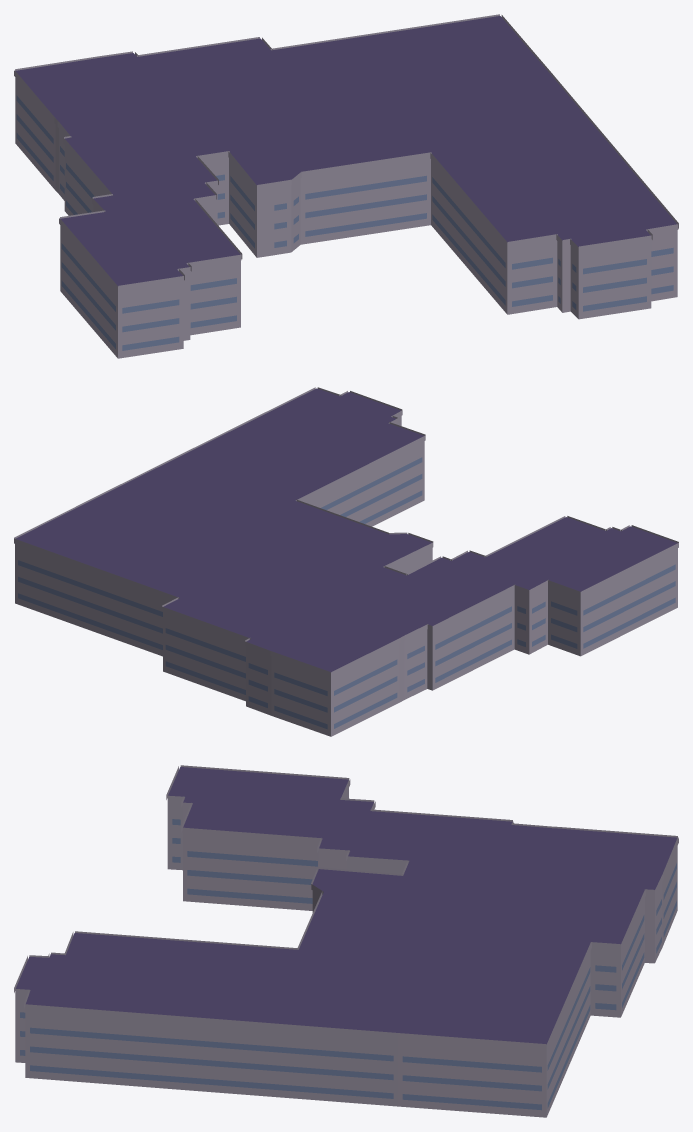
File: core-social-science-centre-day.glb
3 renders of one model, top to bottom at view 1: azimuth 30°, elevation 25°; view 2: azimuth 150°, elevation 25°; view 3: azimuth 270°, elevation 25°, orthographic. The views are drawn at different scales.
Parts seen in each view (by area): view 1: campus/core-social-science-centre-day-0; view 2: campus/core-social-science-centre-day-0; view 3: campus/core-social-science-centre-day-0.
Part boxes in pixels (box(x1,y1,x2,y2)): campus/core-social-science-centre-day-0: box(14, 14, 678, 358); campus/core-social-science-centre-day-0: box(14, 387, 678, 736); campus/core-social-science-centre-day-0: box(14, 765, 678, 1117).
Bounding box in the file's own units: 114 × 14.2 × 115.
